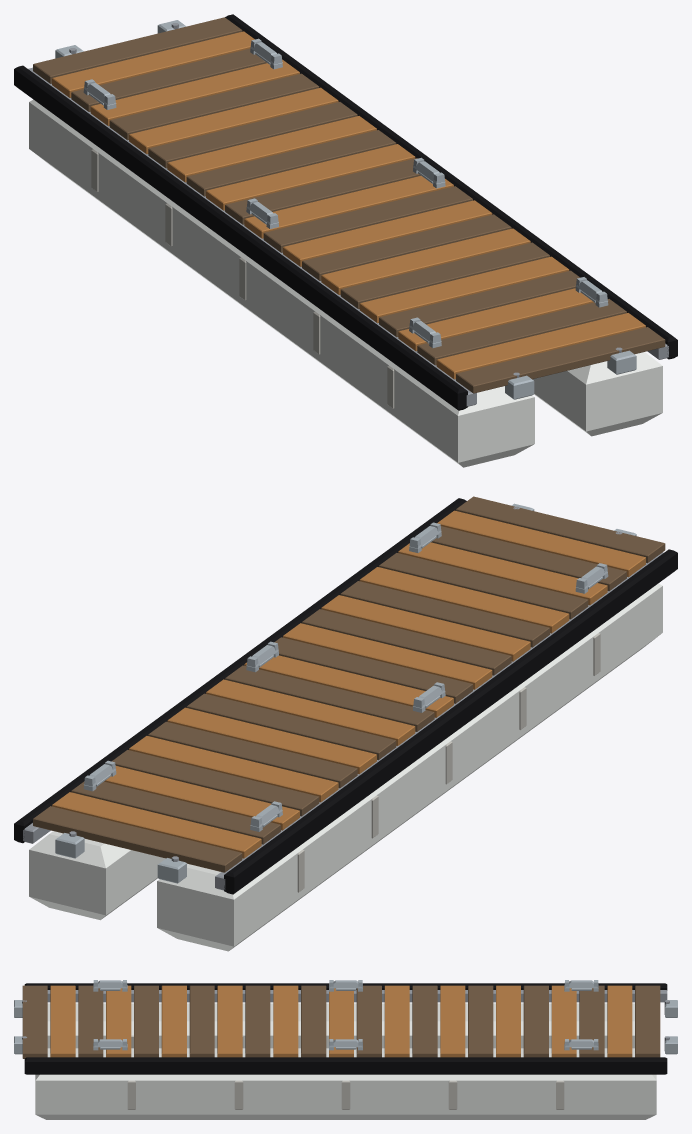
The model's file is HARBOR_13.obj.
3 views of the same model, one above another, from view 1: azimuth 30°, elevation 25°; view 2: azimuth 150°, elevation 25°; view 3: azimuth 270°, elevation 25° (orthographic). The views are drawn at different scales.
Visible parts, largest first — view 1: HARBOR_13__deck, HARBOR_13__floats, HARBOR_13__rub_rail, HARBOR_13__cleats, HARBOR_13__float_ribs, HARBOR_13__connector_lug, HARBOR_13__frame; view 2: HARBOR_13__deck, HARBOR_13__floats, HARBOR_13__rub_rail, HARBOR_13__cleats, HARBOR_13__float_ribs, HARBOR_13__frame, HARBOR_13__connector_lug; view 3: HARBOR_13__deck, HARBOR_13__floats, HARBOR_13__rub_rail, HARBOR_13__cleats, HARBOR_13__float_ribs, HARBOR_13__frame, HARBOR_13__connector_lug.
Boxes of the visible parts, box(x1,y1,x2,y2) form: HARBOR_13__deck: box(33, 17, 665, 393); HARBOR_13__floats: box(29, 99, 662, 467); HARBOR_13__rub_rail: box(14, 14, 677, 410); HARBOR_13__cleats: box(83, 38, 608, 348); HARBOR_13__float_ribs: box(91, 149, 394, 408); HARBOR_13__connector_lug: box(55, 20, 636, 399); HARBOR_13__frame: box(28, 67, 668, 406); HARBOR_13__deck: box(33, 496, 665, 872); HARBOR_13__floats: box(29, 583, 662, 951); HARBOR_13__rub_rail: box(14, 498, 677, 894); HARBOR_13__cleats: box(83, 522, 608, 831); HARBOR_13__float_ribs: box(297, 633, 600, 892); HARBOR_13__frame: box(23, 552, 663, 890); HARBOR_13__connector_lug: box(55, 503, 636, 883); HARBOR_13__deck: box(22, 985, 660, 1058); HARBOR_13__floats: box(35, 1003, 656, 1119); HARBOR_13__rub_rail: box(24, 983, 667, 1074); HARBOR_13__cleats: box(93, 980, 598, 1050); HARBOR_13__float_ribs: box(127, 1035, 564, 1109); HARBOR_13__frame: box(47, 990, 667, 1057); HARBOR_13__connector_lug: box(14, 1000, 677, 1054).
Bounding box in the file's own units: 1.72 × 0.798 × 6.2.
